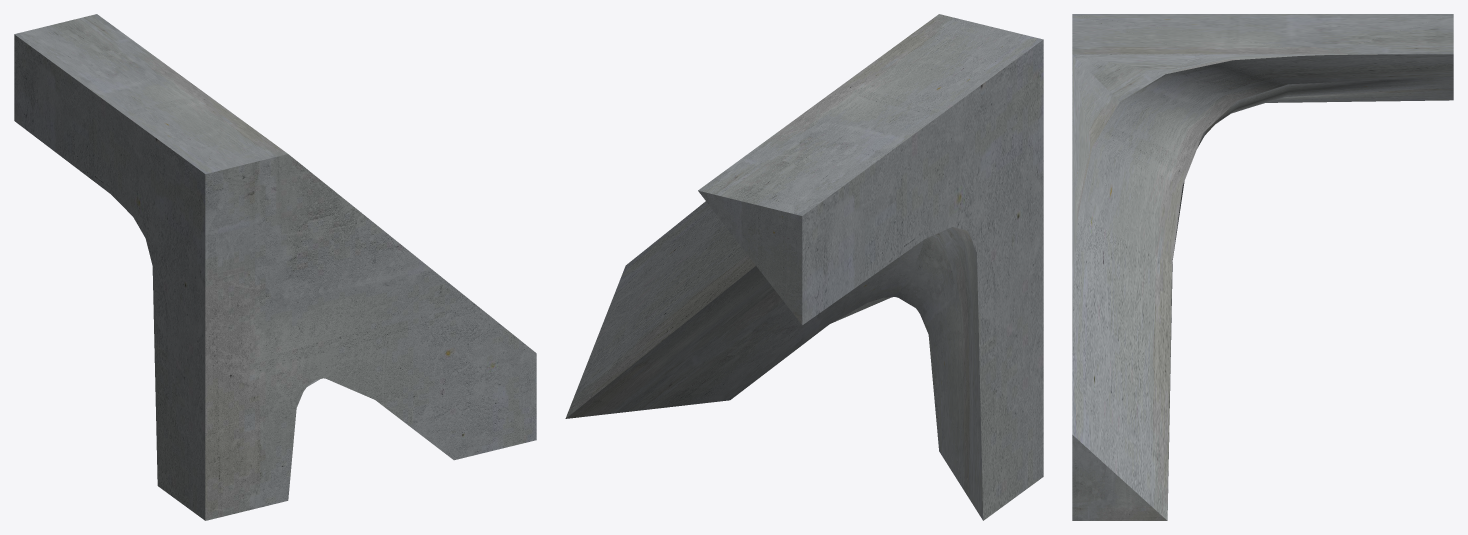
The model's file is module_I1.fbx.
3 views of the same model, side by side, from view 1: azimuth 30°, elevation 25°; view 2: azimuth 150°, elevation 25°; view 3: azimuth 270°, elevation 25° (orthographic). The views are drawn at different scales.
Visible parts, largest first — view 1: modules; view 2: modules; view 3: modules.
Part boxes in pixels (x1=…): modules: x1=14, y1=14, x2=536, y2=520; modules: x1=565, y1=14, x2=1043, y2=520; modules: x1=1072, y1=14, x2=1453, y2=520.
Size of the model in its own units: 1000 by 1000 by 1000.
1 material, 1 textured.
